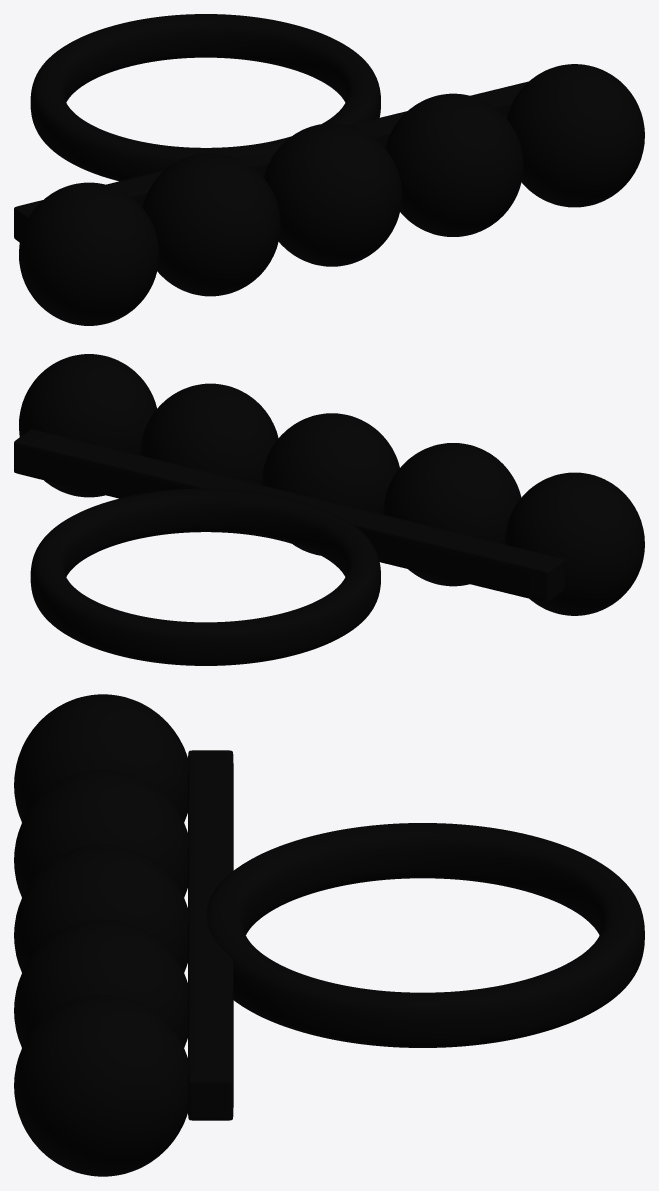
File: ring2.gltf
3 renders of one model, top to bottom at view 1: azimuth 30°, elevation 25°; view 2: azimuth 150°, elevation 25°; view 3: azimuth 270°, elevation 25°, orthographic. The views are drawn at different scales.
Parts seen in each view (by area): view 1: Mesh_Pearl (×5), Ring; view 2: Mesh_Pearl (×5), Ring; view 3: Mesh_Pearl (×5), Ring.
Boxes of the visible parts, left/top/right/bottom form: Mesh_Pearl (×5): left=19, top=64, right=644, bottom=325; Ring: left=14, top=14, right=528, bottom=242; Mesh_Pearl (×5): left=19, top=354, right=644, bottom=615; Ring: left=14, top=429, right=564, bottom=665; Mesh_Pearl (×5): left=14, top=694, right=189, bottom=1176; Ring: left=188, top=750, right=644, bottom=1120.
Size of the model in its own units: 0.0413 by 0.00846 by 0.0293.
2 materials, 1 textured.
